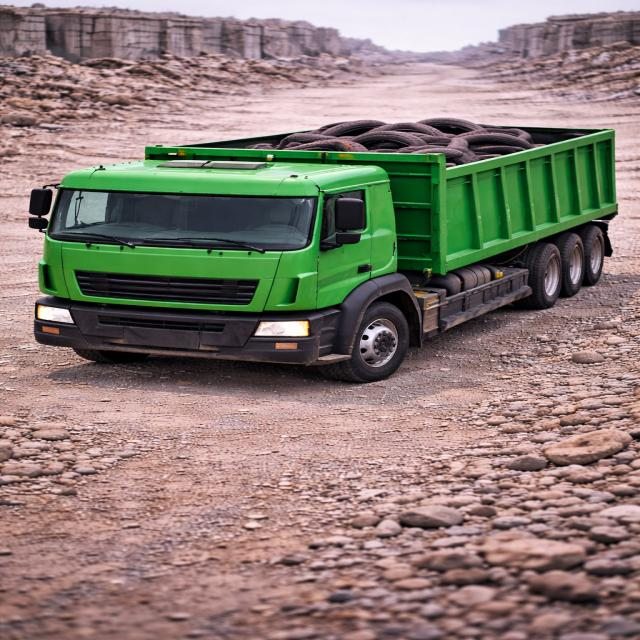Box: (139, 118, 617, 164)
Truck: (21, 103, 625, 381)
